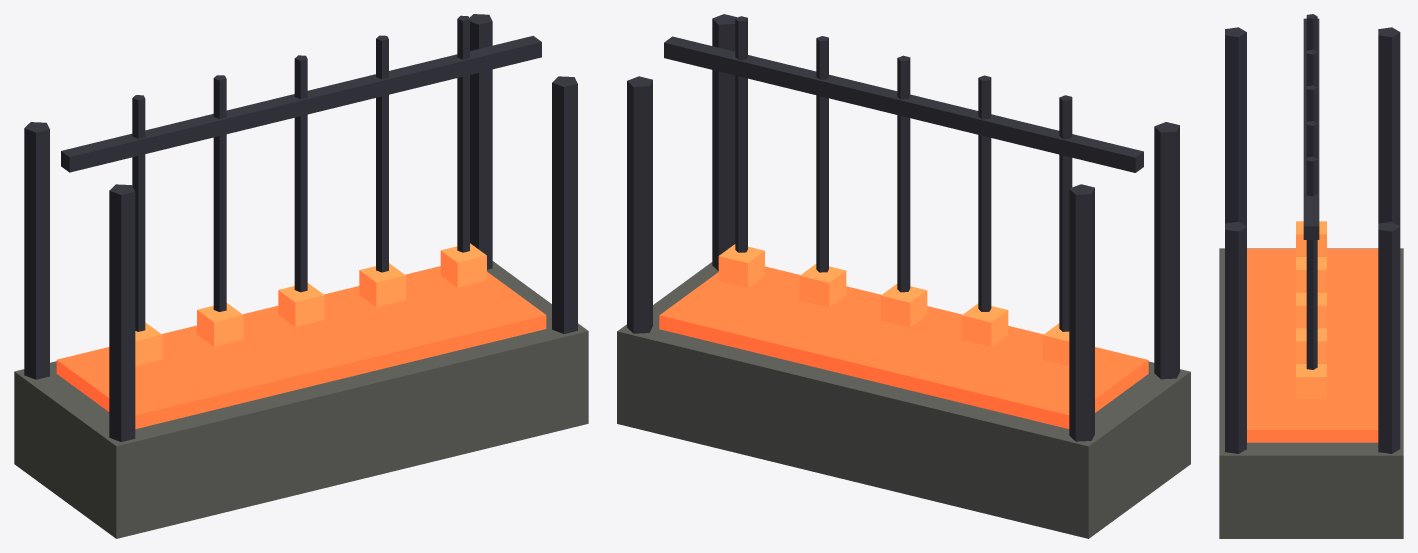
File: prop_brand_rack.glb
3 renders of one model, left to right at view 1: azimuth 30°, elevation 25°; view 2: azimuth 150°, elevation 25°; view 3: azimuth 270°, elevation 25°, orthographic. The views are drawn at different scales.
Parts seen in each view (by area): view 1: prop_brand_rack; view 2: prop_brand_rack; view 3: prop_brand_rack.
Boxes of the visible parts, left/top/right/bottom form: prop_brand_rack: left=14, top=14, right=588, bottom=538; prop_brand_rack: left=617, top=14, right=1190, bottom=538; prop_brand_rack: left=1219, top=14, right=1403, bottom=538.
Bounding box in the file's own units: 1.6 × 1.25 × 0.6.
